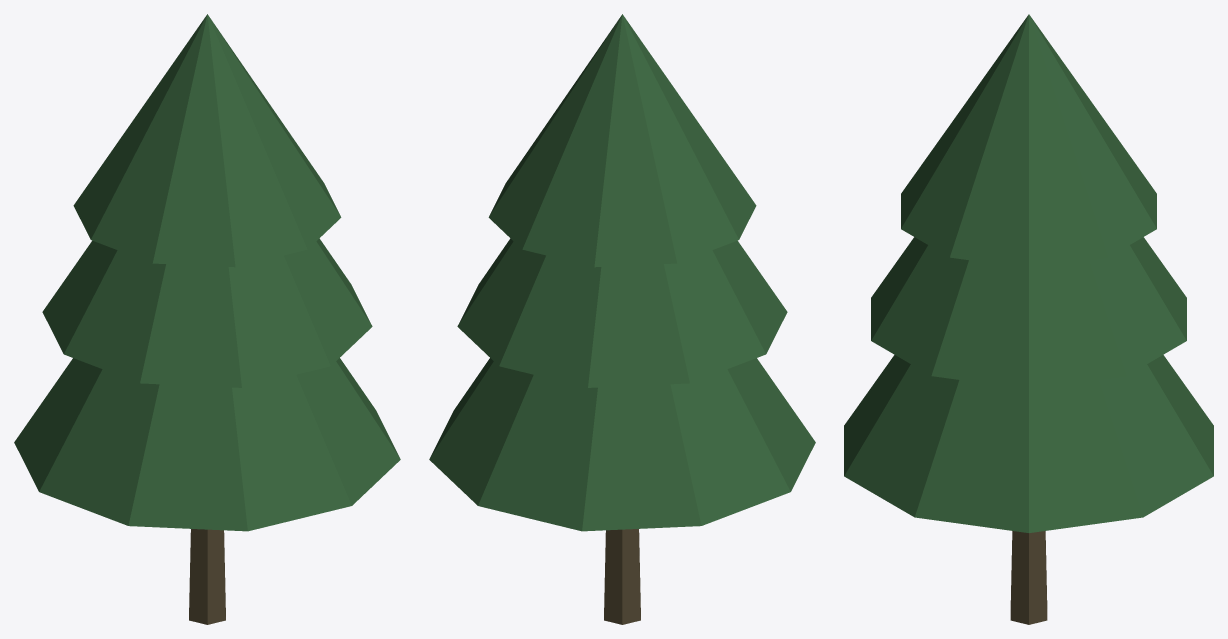
Rendered from Tree 1.fbx.
3 views of the same model, side by side, from view 1: azimuth 30°, elevation 25°; view 2: azimuth 150°, elevation 25°; view 3: azimuth 270°, elevation 25° (orthographic).
Visible parts, largest first — view 1: polySurface15; view 2: polySurface15; view 3: polySurface15.
Part boxes in pixels (box(x1,y1,x2,y2)): polySurface15: box(14, 14, 400, 624); polySurface15: box(429, 14, 815, 624); polySurface15: box(844, 14, 1213, 624).
Bounding box in the file's own units: 43.04 × 73.51 × 40.93.
